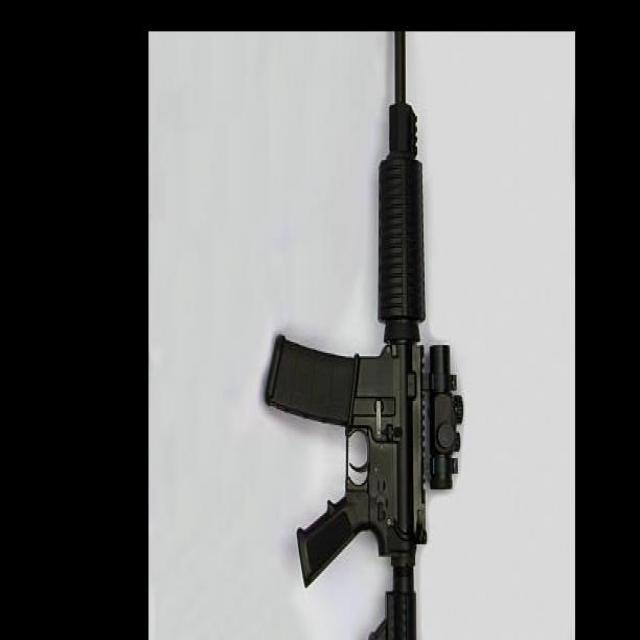weapon: (264, 31, 464, 640)
